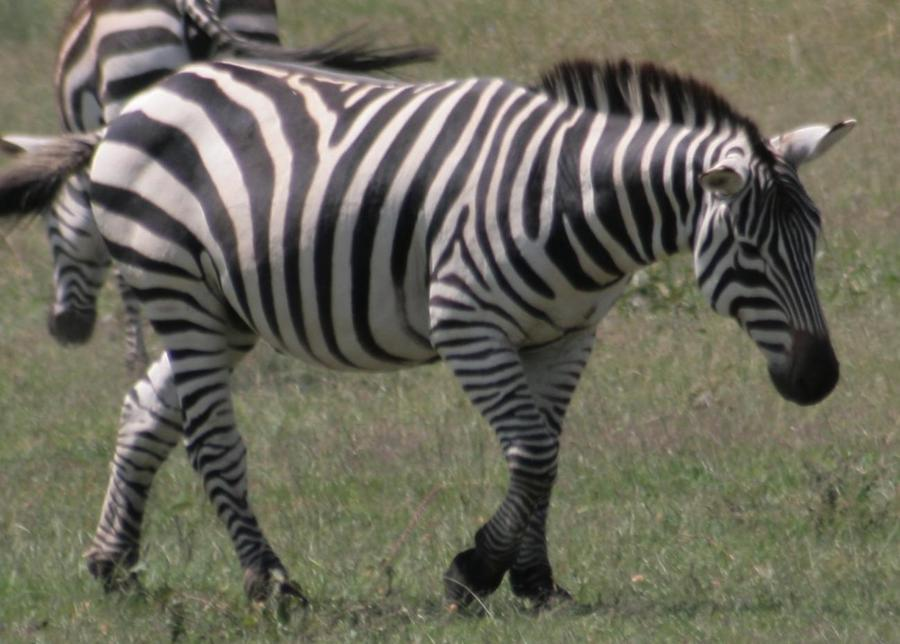zebra_plains: (60, 14, 604, 399)
